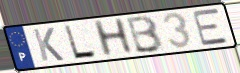3: (161, 11, 194, 51)
B: (125, 13, 165, 54)
E: (190, 7, 231, 47)
H: (91, 17, 136, 59)
K: (31, 27, 66, 63)
L: (63, 24, 100, 60)
